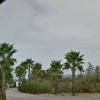Tree: (28, 43, 87, 86)
